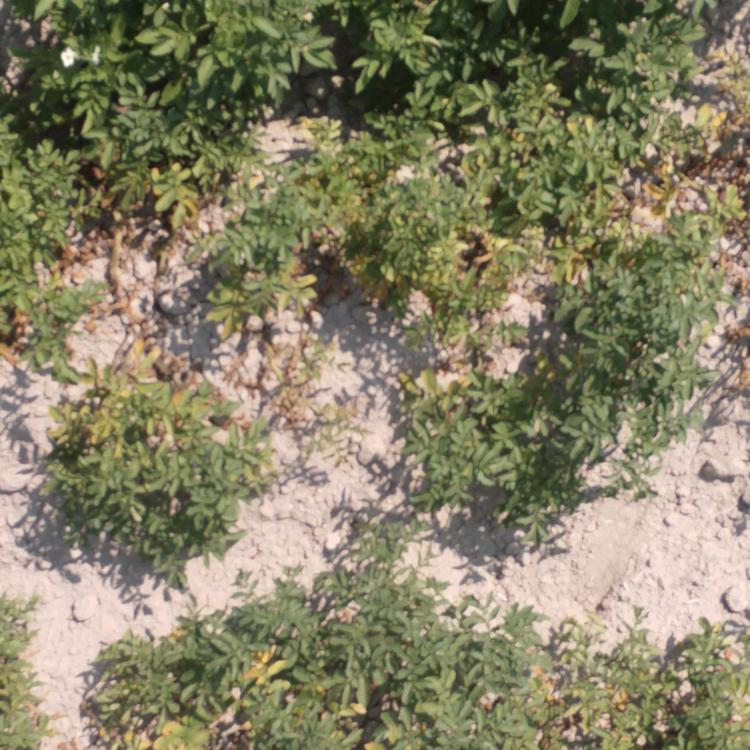healthy: (7, 1, 515, 122), (573, 275, 701, 473), (402, 389, 572, 511), (523, 10, 745, 63)
stressed: (294, 564, 522, 750), (530, 79, 747, 266), (60, 360, 256, 554), (351, 121, 526, 322), (533, 615, 749, 750), (216, 146, 335, 374), (94, 616, 282, 750), (1, 154, 72, 346), (80, 145, 193, 231), (1, 610, 47, 750)
